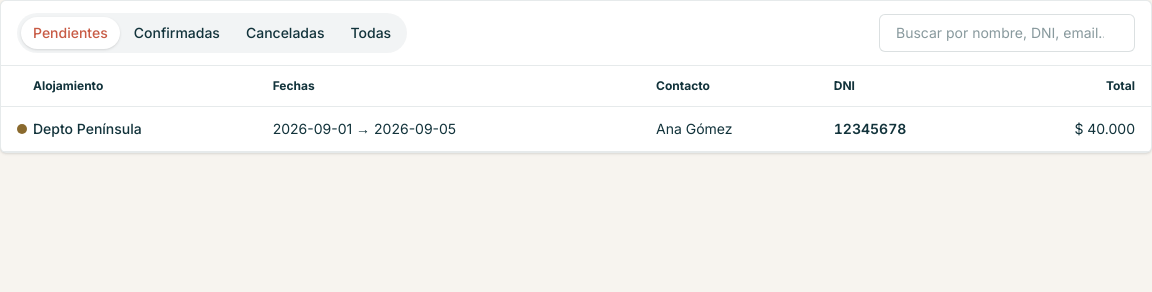
Test: ReservasTable — fila expandible › muestra el bloque 'Cuenta' solo si la reserva tiene un usuario asociado
Step 1. Click the text "Depto Península" → {"x": 87, "y": 128}, box [33,106,273,152]
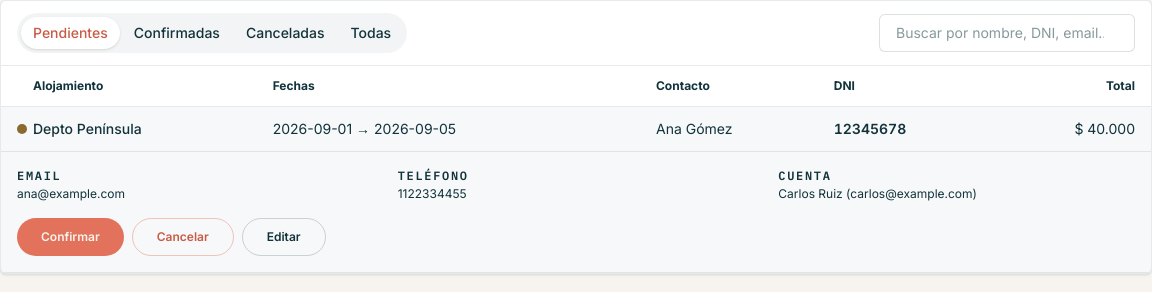
Result: the text "Carlos Ruiz (carlos@example.com)" is shown at [778,186,977,201]
